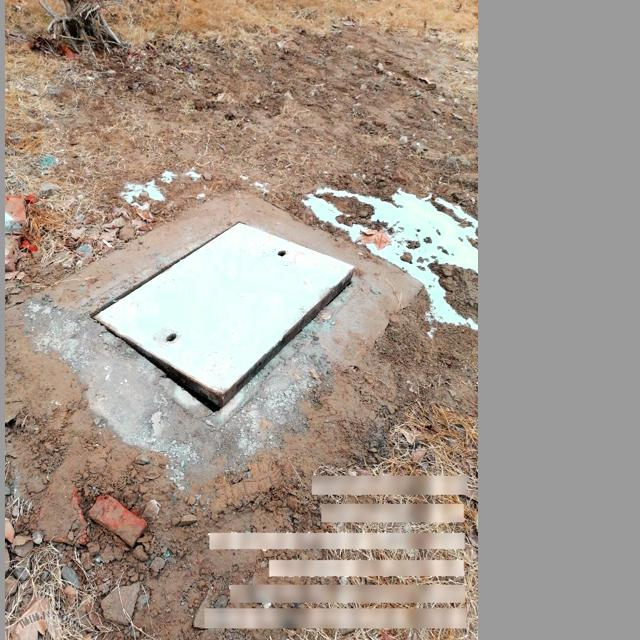uncovered: (77, 218, 362, 426)
